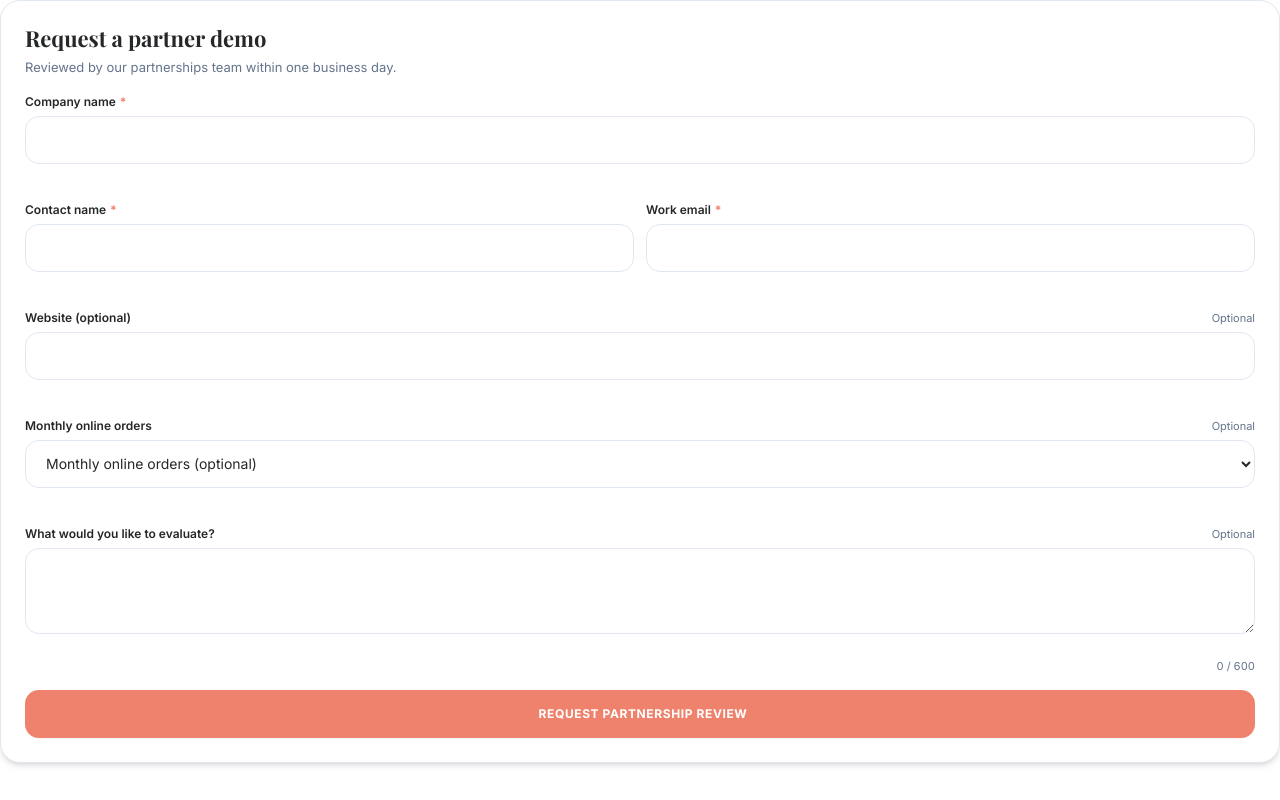
C. LeadForm › renders the server reference on success
The width and height of the screenshot is (1280, 800).
Type "Integrity Brand" into the field labelled "Company name". click: (640, 140)
box: [25,116,1255,164]
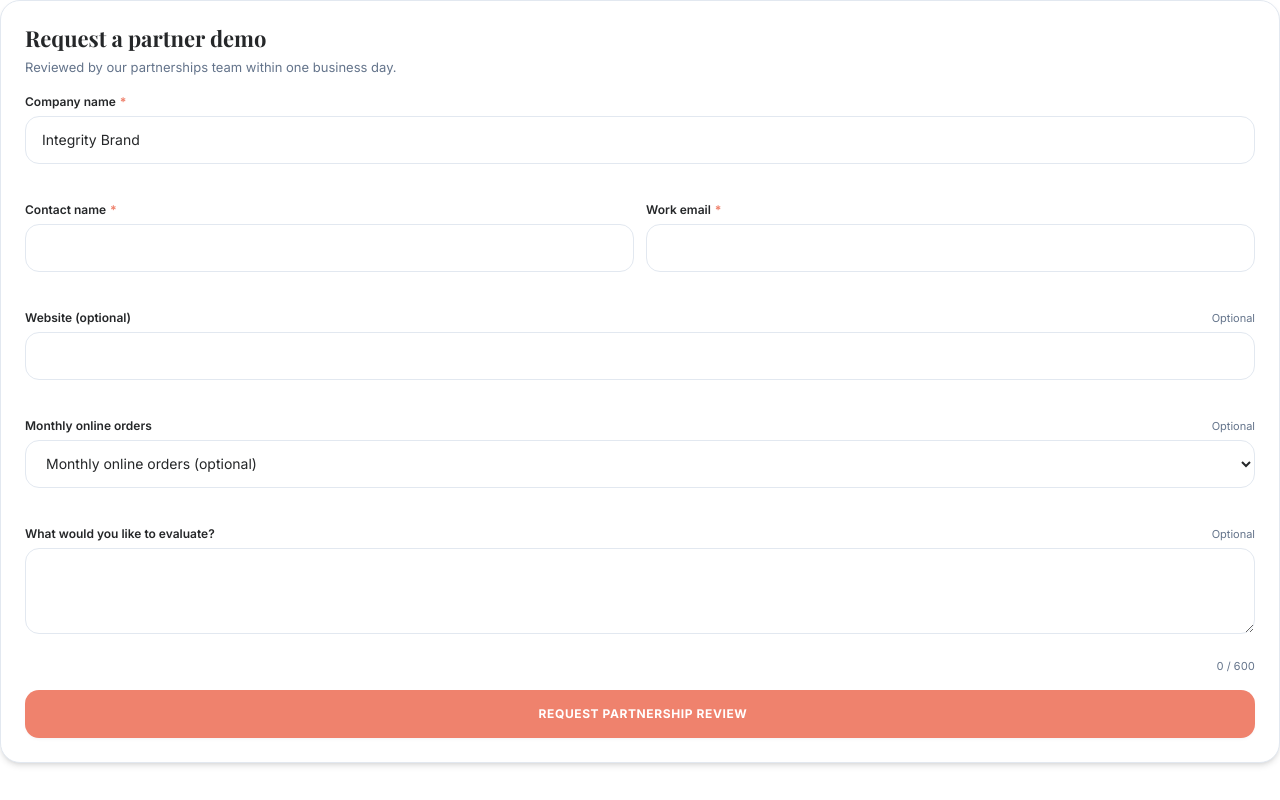
Type "Amina Partner" into the field labelled "Contact name". click: (330, 248)
box: [25,224,634,272]
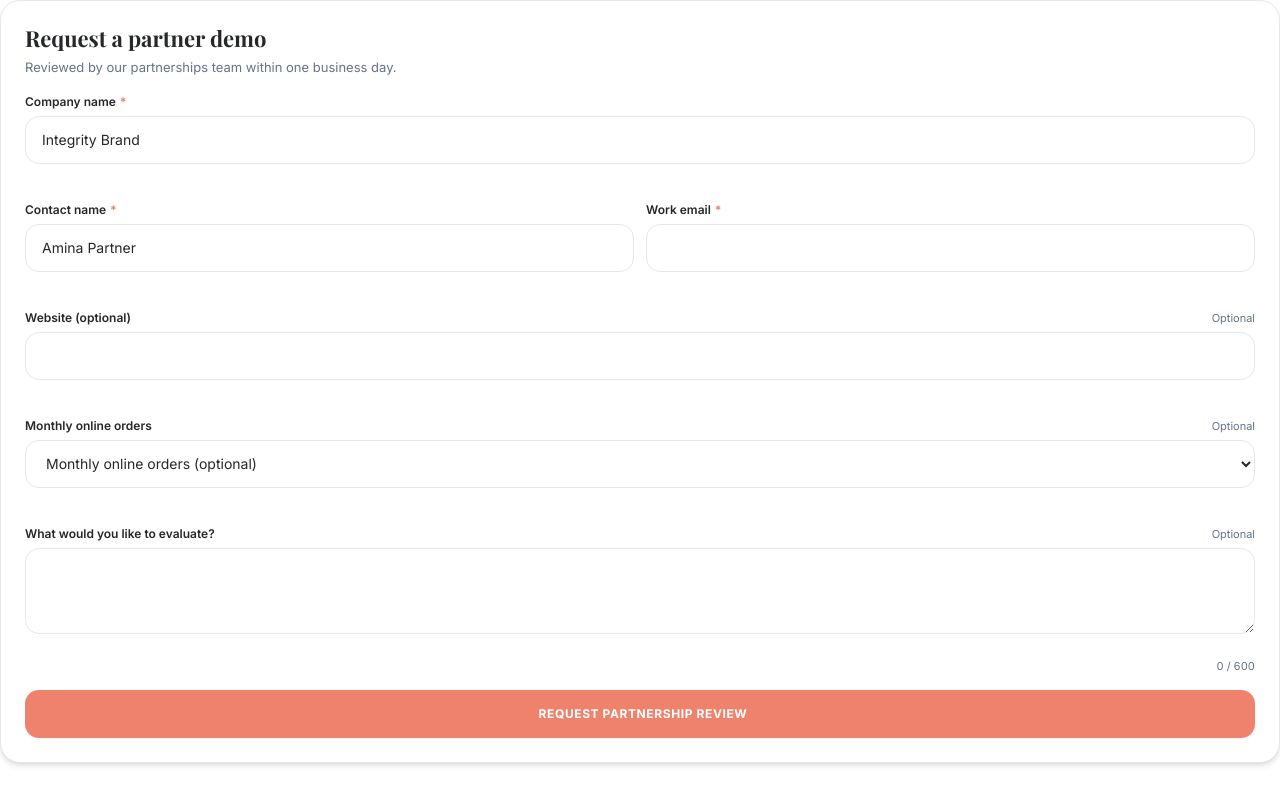
Type "amina@example.com" into the field labelled "Work email". click: (950, 248)
box: [646,224,1255,272]
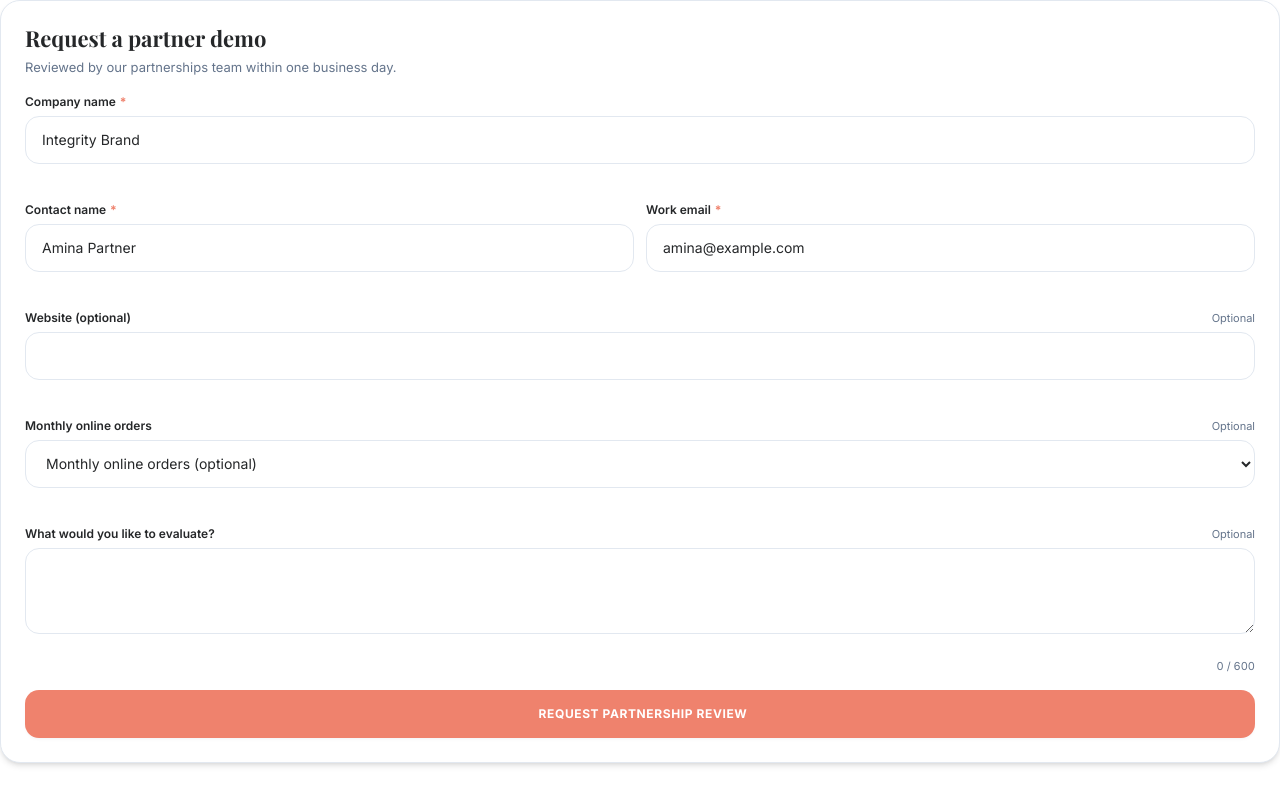
Click the button with test id "lead-submit". click: (640, 714)
box: [25,690,1255,738]
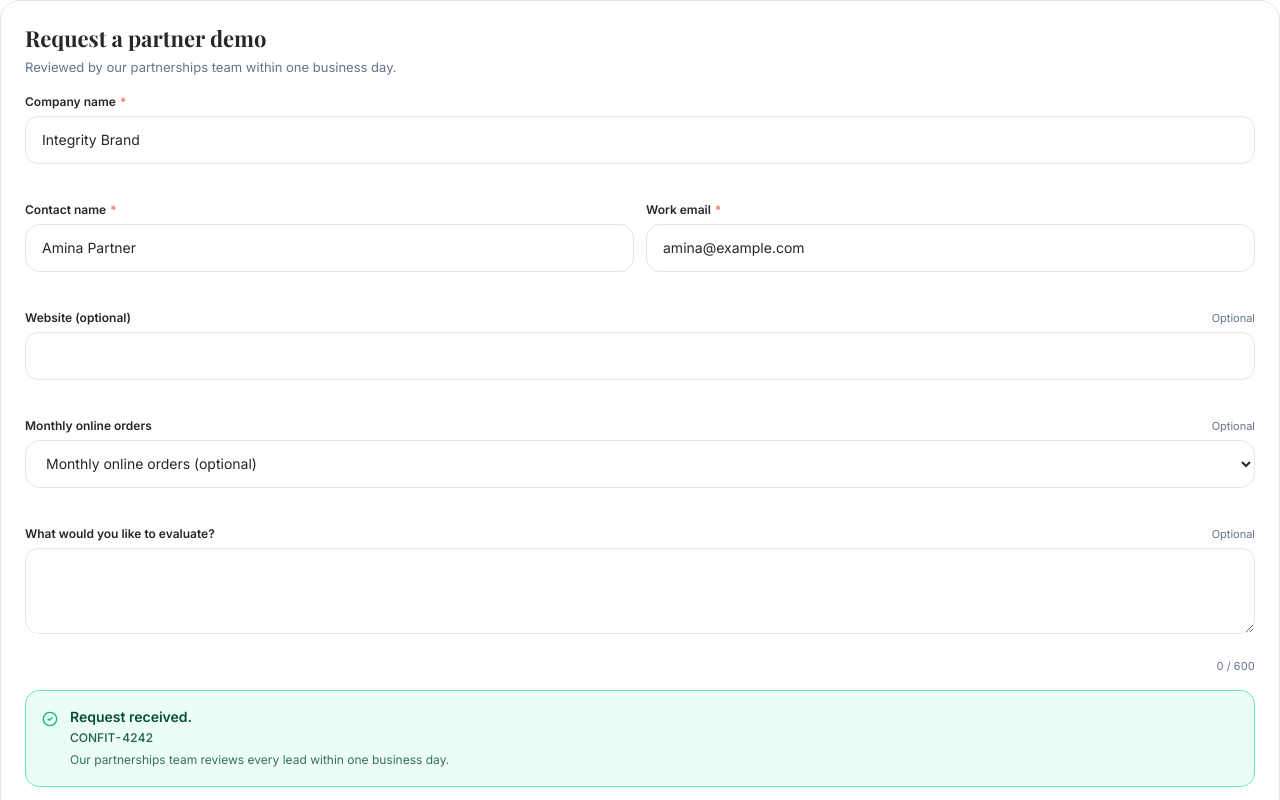
Expected: the text "CONFIT-4242" is shown, [70,730,153,745]
